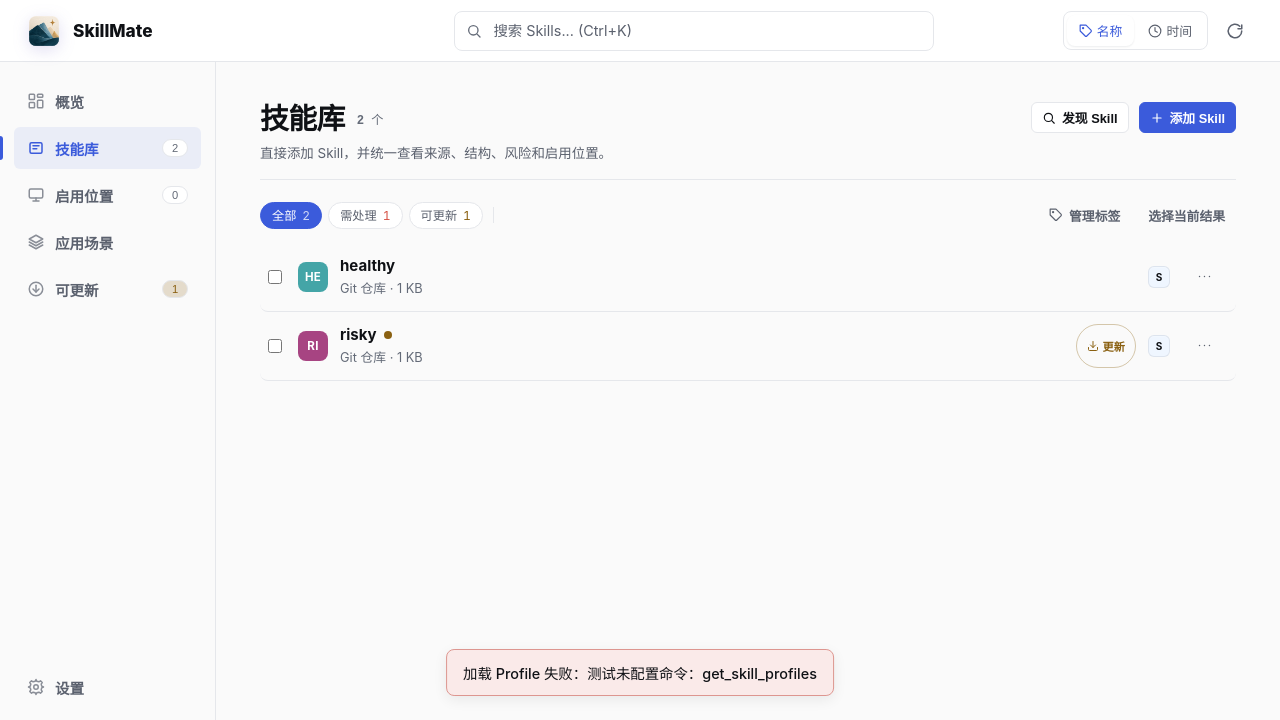
Test: 技能库与父页面协作 › 概览常用入口显示全部技能，问题入口保留需处理筛选
This screenshot has width=1280, height=720.
Expected: the text "healthy" is shown, [340,256,395,275]
What coordinates should you click on to do the following:
click the button "概览"
I would click on:
 (108, 101)
Its box is [14,80,201,122].
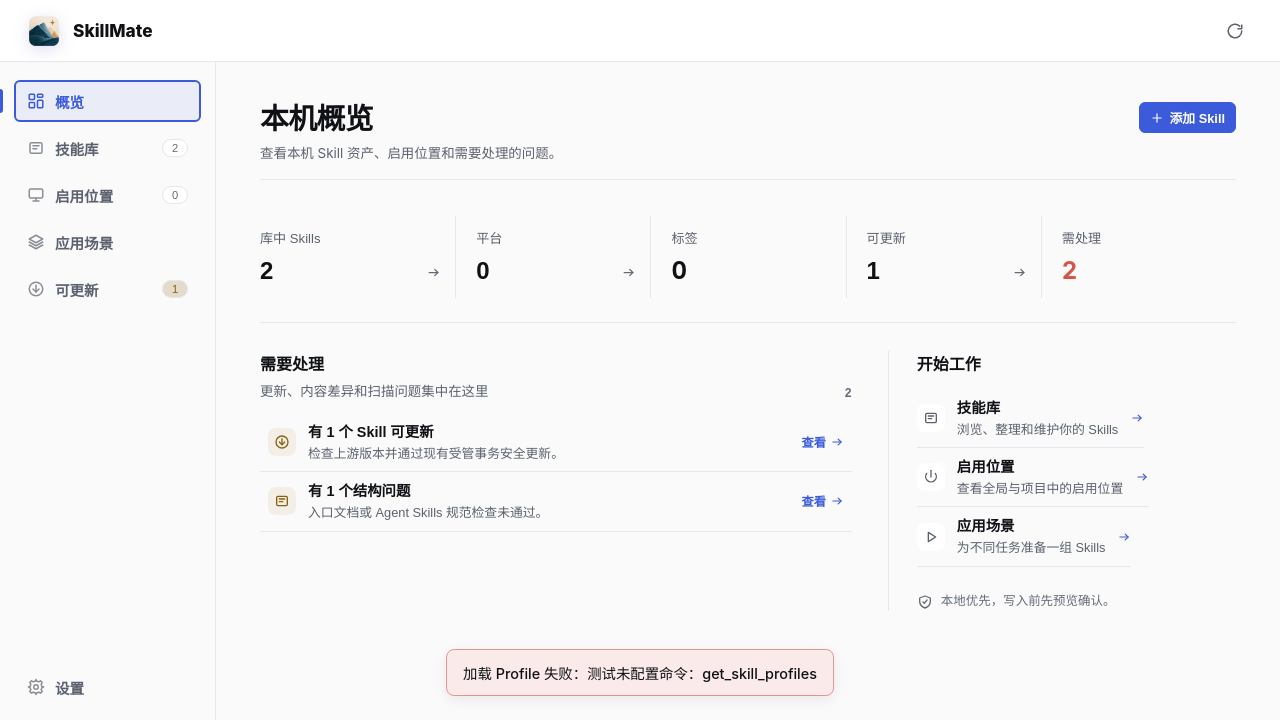
What coordinates should you click on to do the following:
click the button "技能库 浏览、整理和维护你的 Skills"
I would click on:
 (1030, 418)
Its box is [917,388,1144,448].
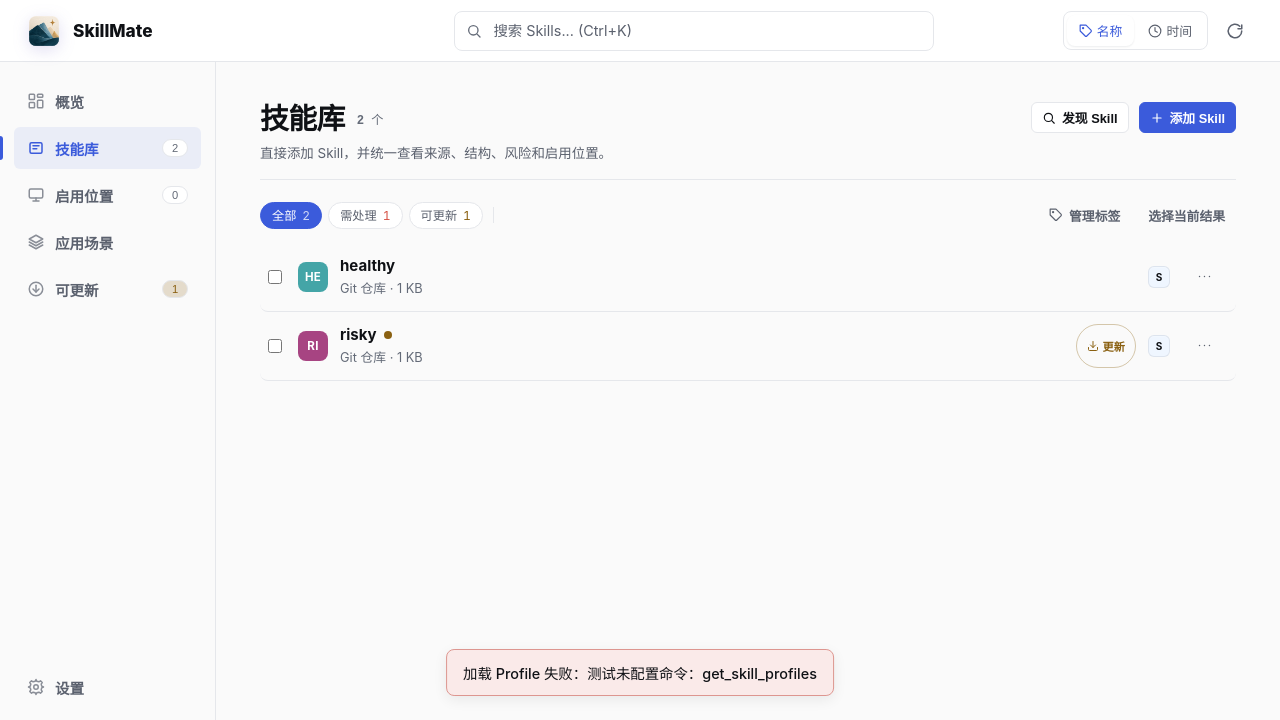
Expected: the text "healthy" is shown, [340,256,395,275]
What coordinates should you click on to do the following:
click the button "概览"
I would click on:
 (108, 101)
Its box is [14,80,201,122].
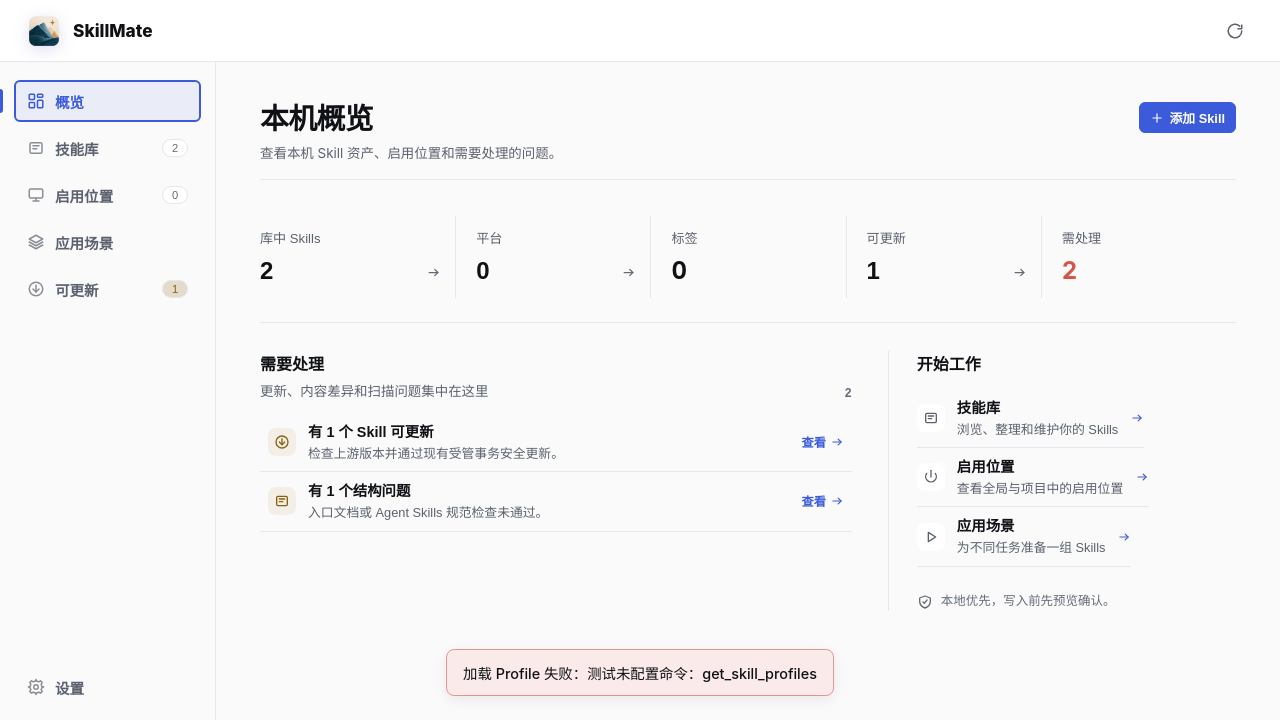
What coordinates should you click on to do the following:
click the button "有 1 个结构问题 入口文档或 Agent Skills 规范检查未通过。 查看"
I would click on:
 (359, 491)
Its box is [260,472,852,532].
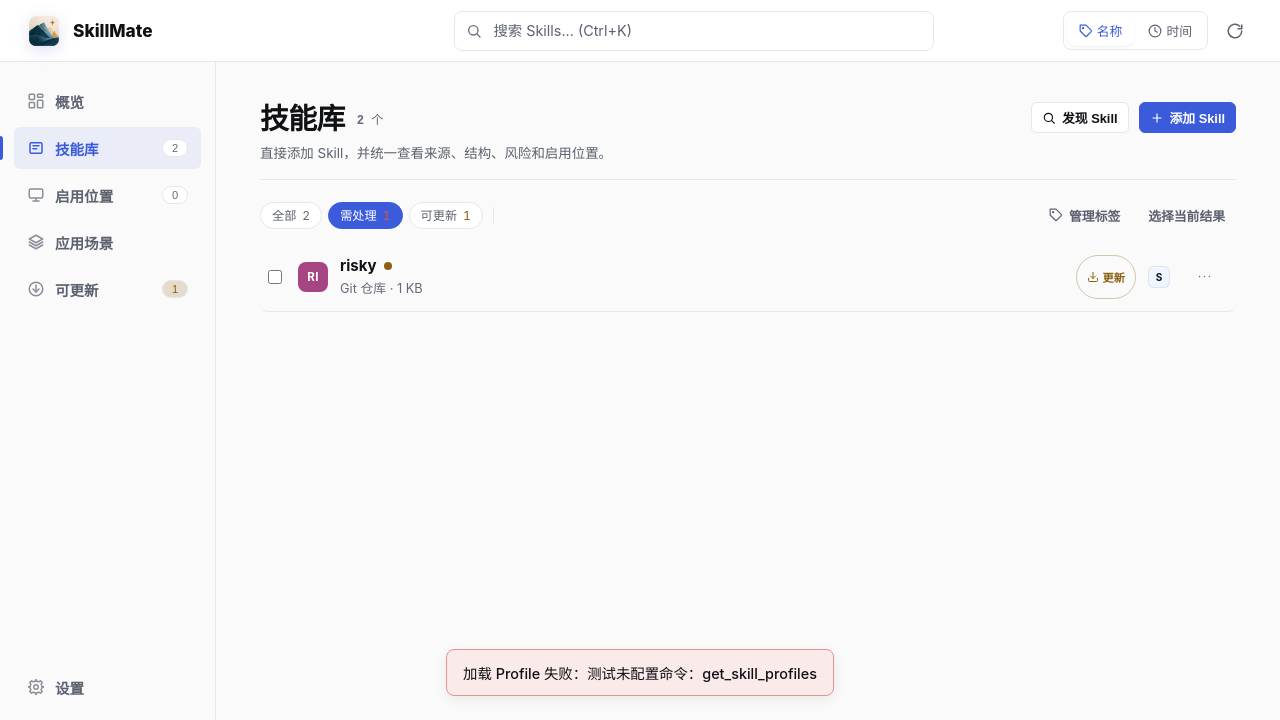
Expected: the text "healthy" is not shown
Expected: the text "risky" is shown, [340,256,377,275]
What coordinates should you click on to do the following:
click the button "概览"
I would click on:
 (108, 101)
Its box is [14,80,201,122].
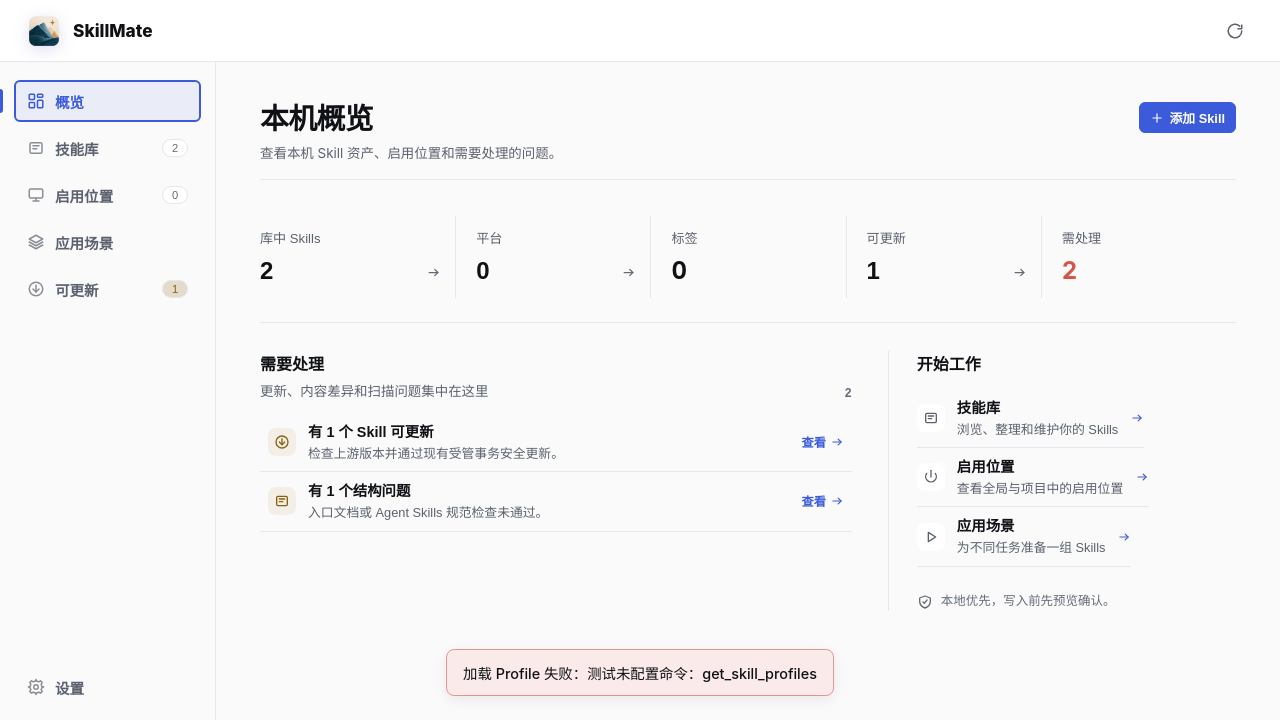
What coordinates should you click on to do the following:
click the button "库中 Skills 2"
I would click on:
 (358, 257)
Its box is [260,216,455,298].
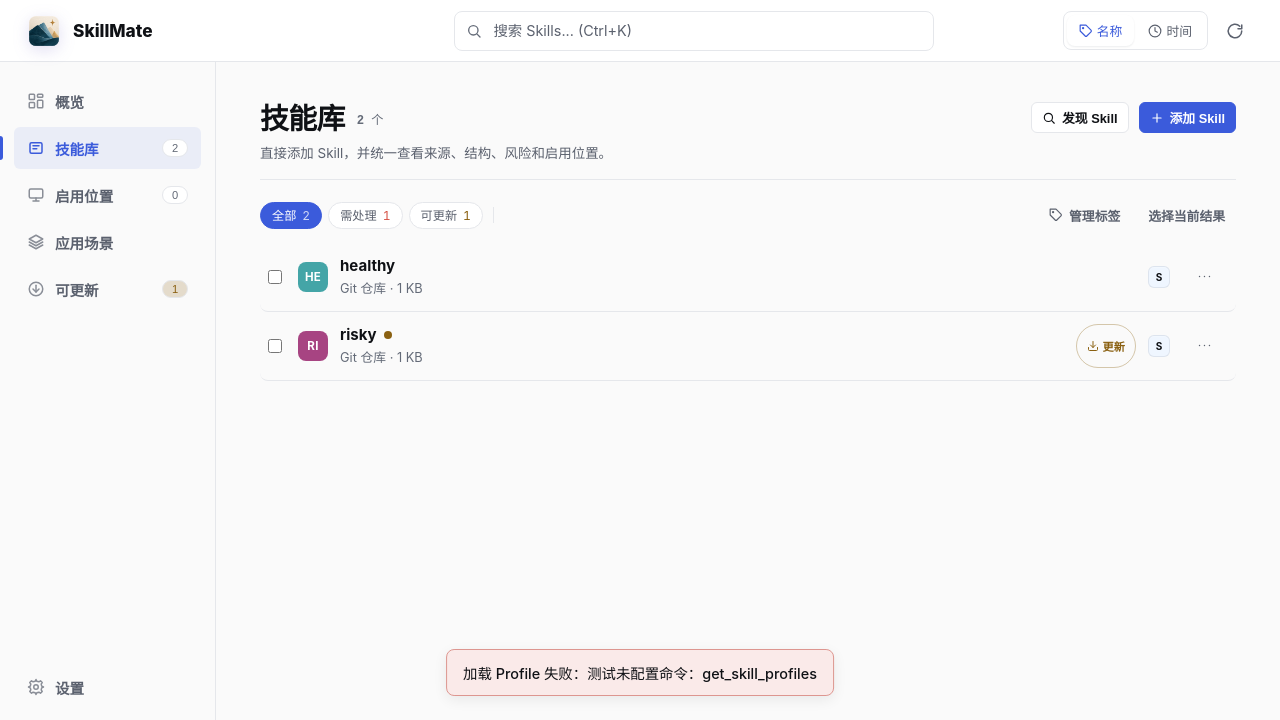
Expected: the text "healthy" is shown, [340,256,395,275]
